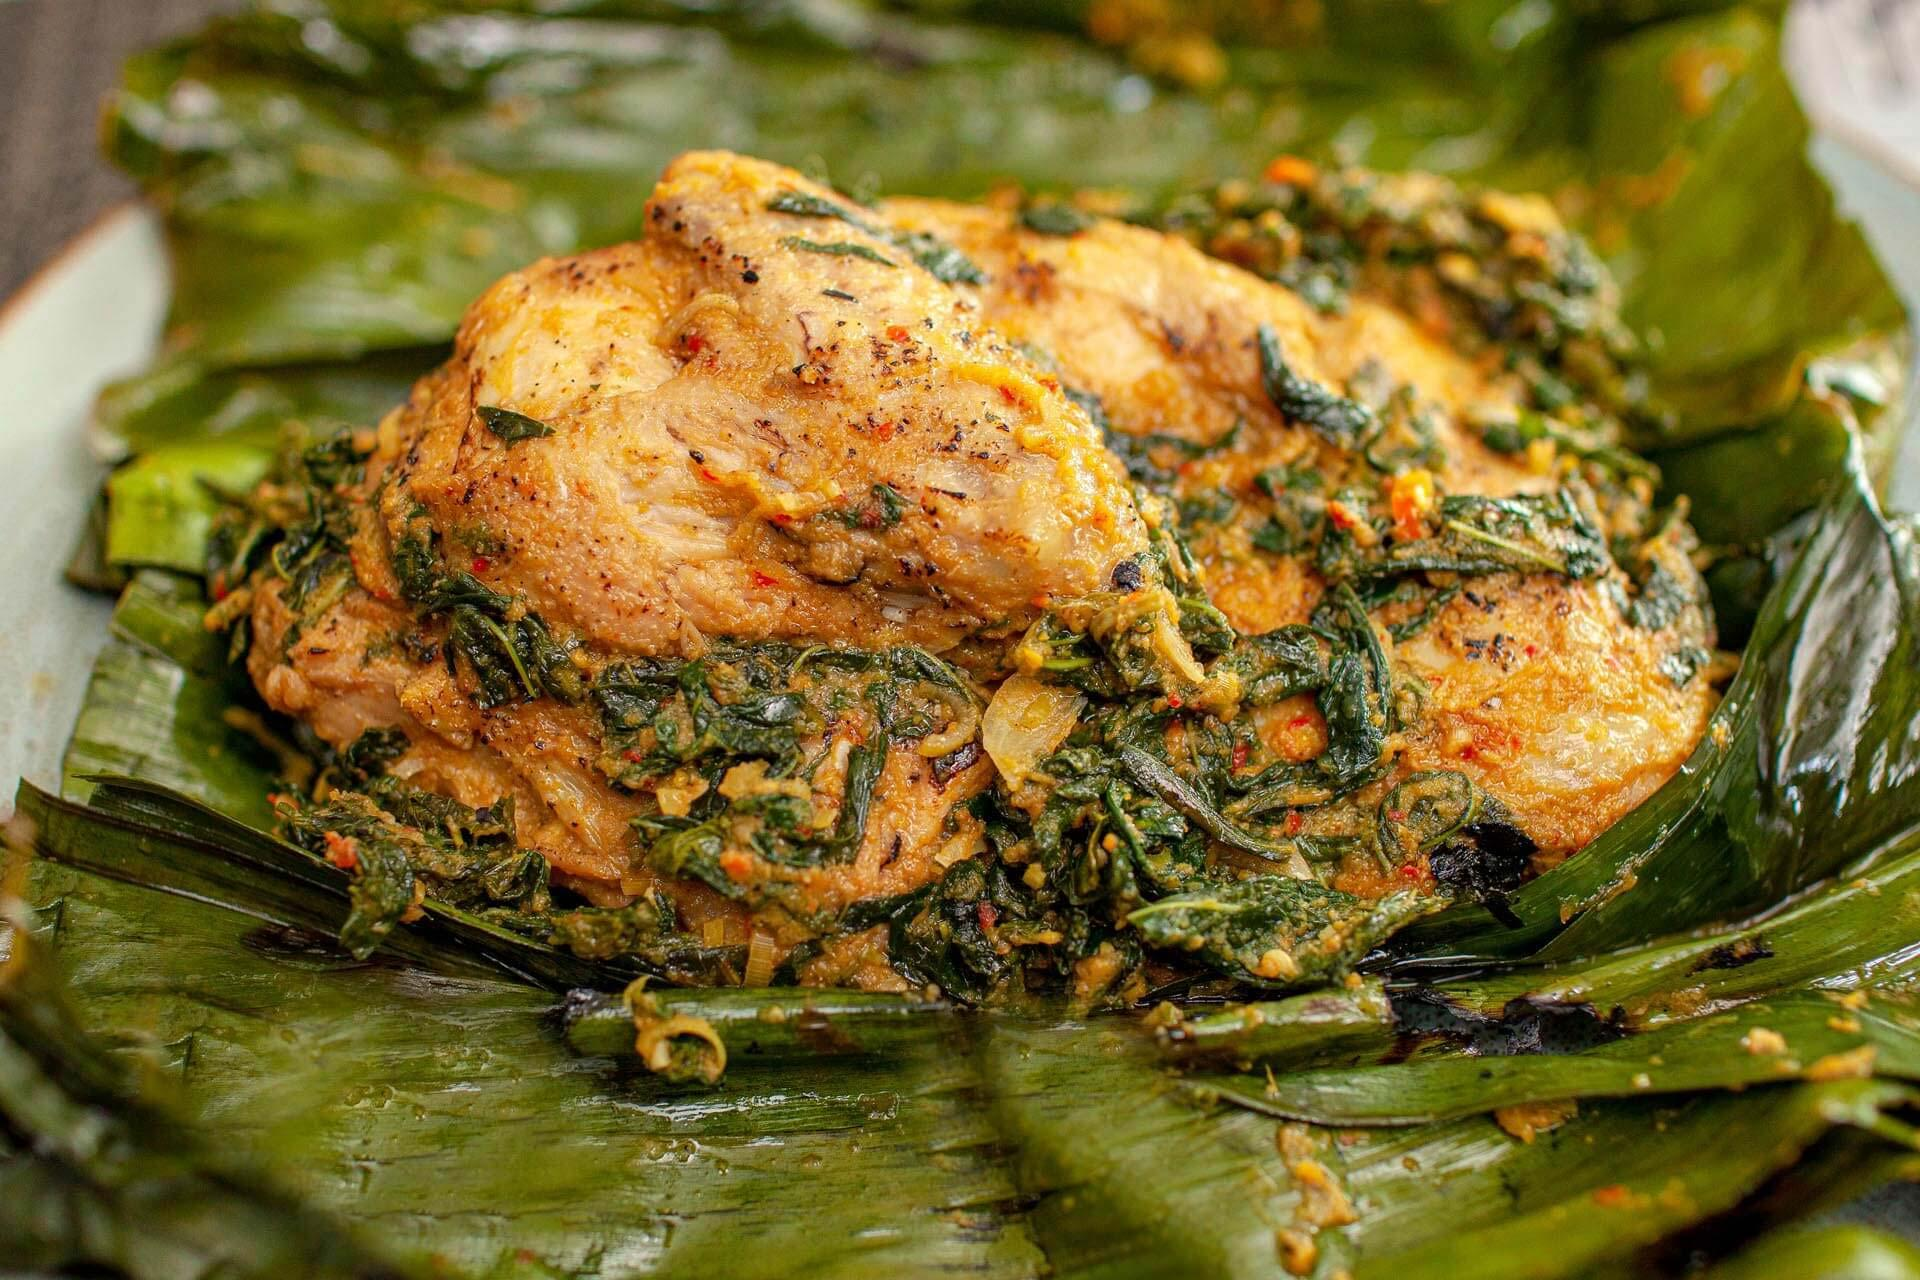ayam betutu: (244, 150, 1714, 999)
